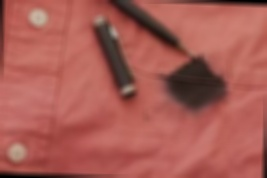ink: (170, 63, 225, 104)
